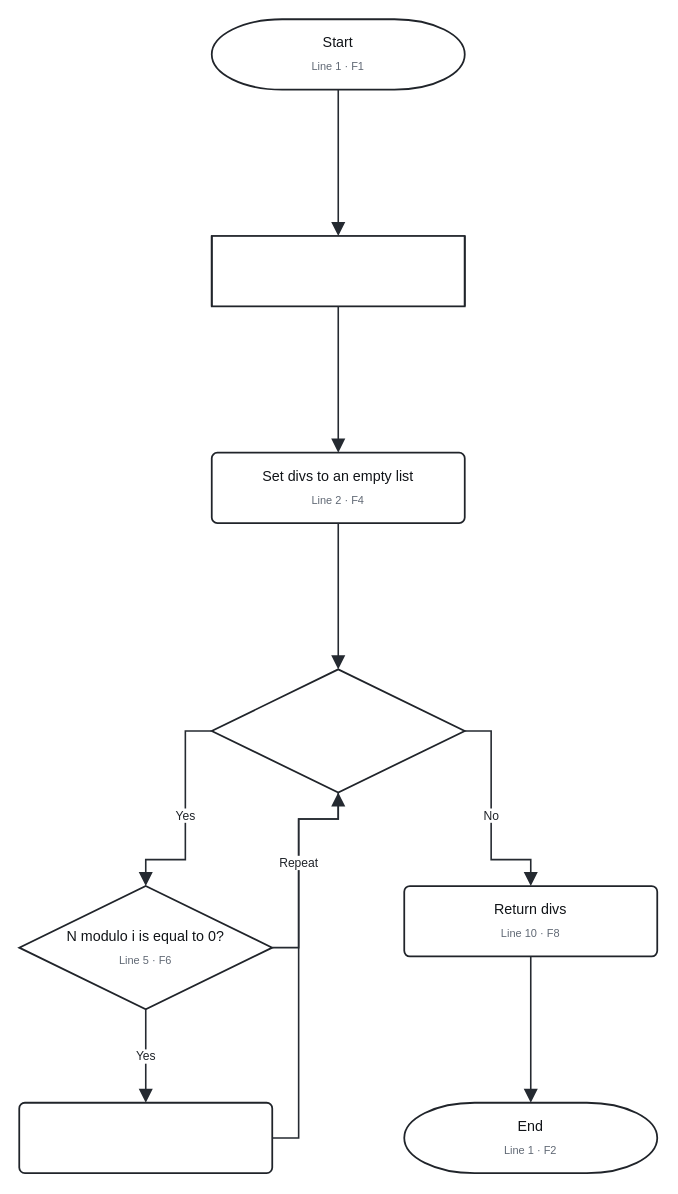
This 678x1194 diagram has some shape labels left out. Here are the shapes that lost their labels. From the top down, the box of each, then its label:
(210, 235, 465, 307): Run function unnamed_function with n Line 1 · F3
(210, 668, 465, 793): For i from 1 to n plus 1 Line 4 · F5
(18, 1101, 273, 1173): Append i to divs Line 6 · F7
